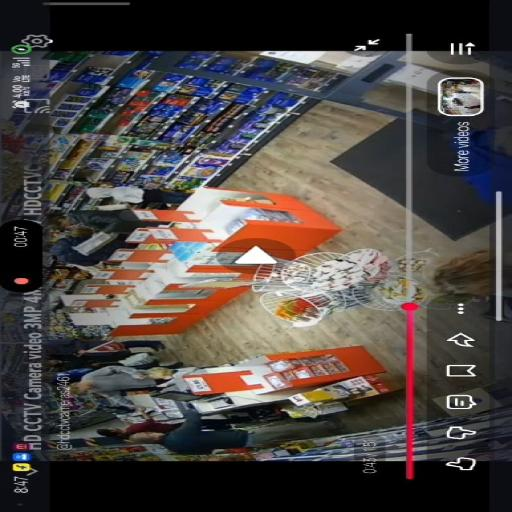workers: (127, 410, 252, 455), (398, 247, 495, 301), (65, 362, 179, 402), (94, 405, 198, 446), (46, 337, 166, 371), (46, 223, 126, 263), (65, 201, 138, 241), (86, 182, 147, 210)
